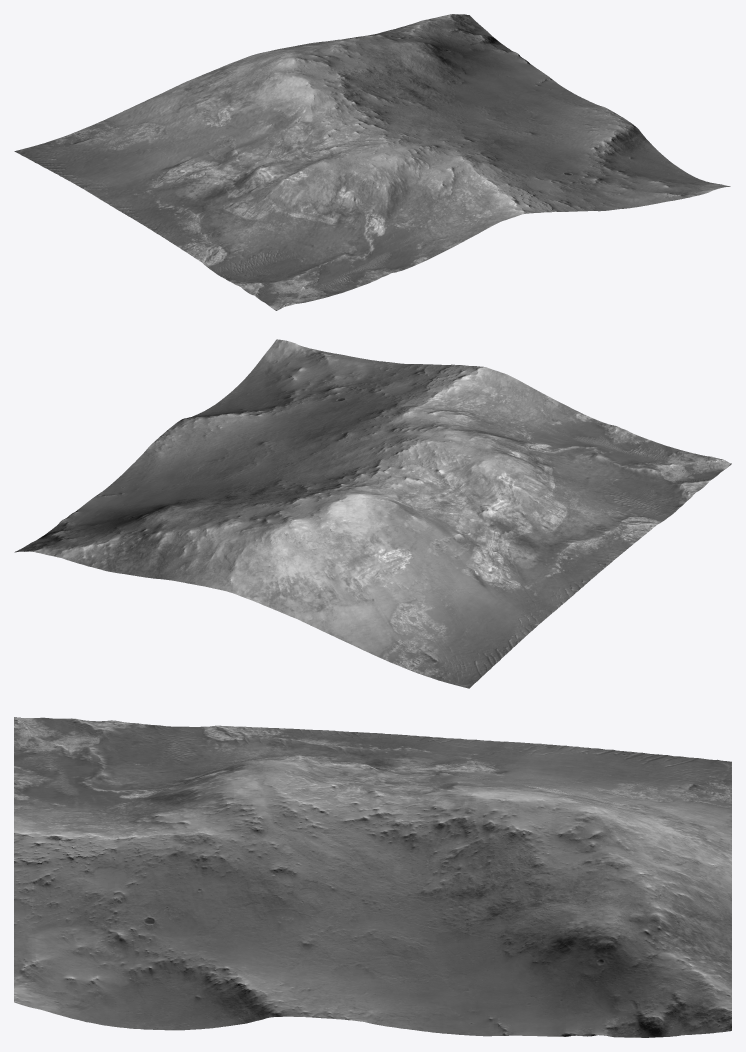
Rendered from terrain_draco.glb.
3 views of the same model, one above another, from view 1: azimuth 30°, elevation 25°; view 2: azimuth 150°, elevation 25°; view 3: azimuth 270°, elevation 25° (orthographic). The views are drawn at different scales.
Visible parts, largest first — view 1: geometry_0; view 2: geometry_0; view 3: geometry_0.
Part boxes in pixels (box(x1,y1,x2,y2)): geometry_0: box(14, 14, 730, 310); geometry_0: box(14, 339, 731, 688); geometry_0: box(14, 717, 731, 1037).
Size of the model in its own units: 1992 by 321 by 1990.
1 material, 1 textured.
